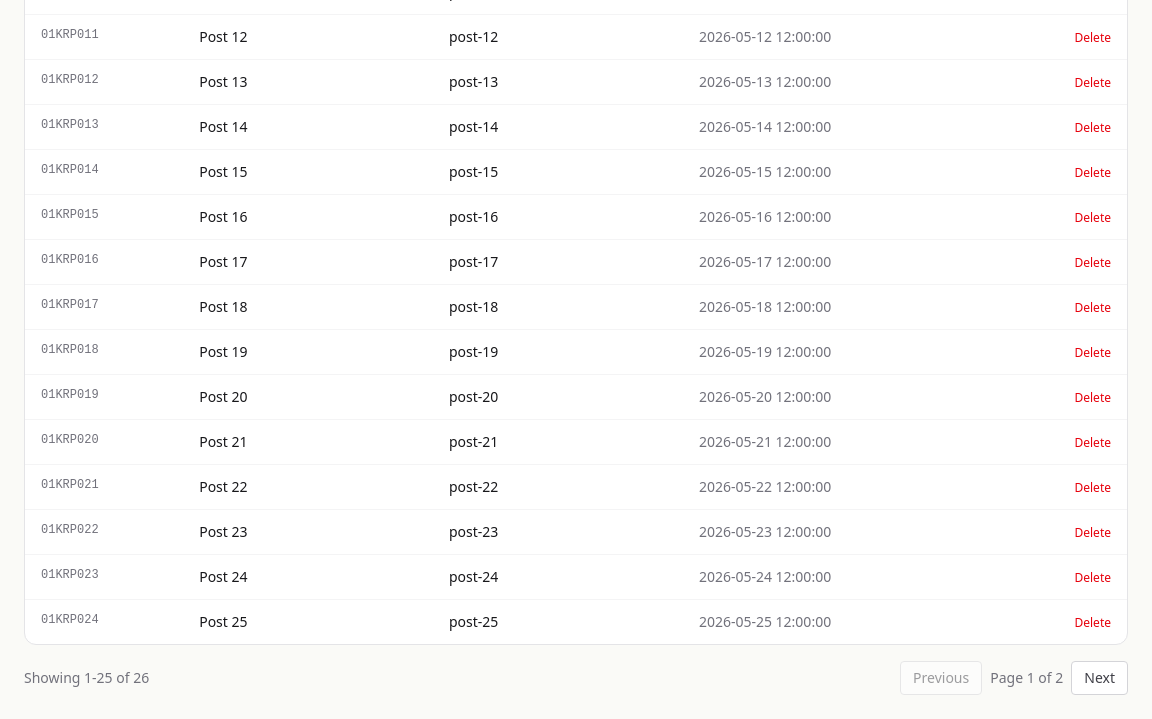
CollectionList › renders paginated results and advances pages
(page scrolled)
Expected: the text with test id "collection-pagination-summary" reads "Showing 1-25 of 26", [24, 668, 149, 687]
Expected: the text with test id "collection-page-indicator" reads "Page 1 of 2", [990, 668, 1063, 687]
Click the button with test id "collection-page-next".
click(1100, 678)  # box [1071, 661, 1128, 695]
(page scrolled)
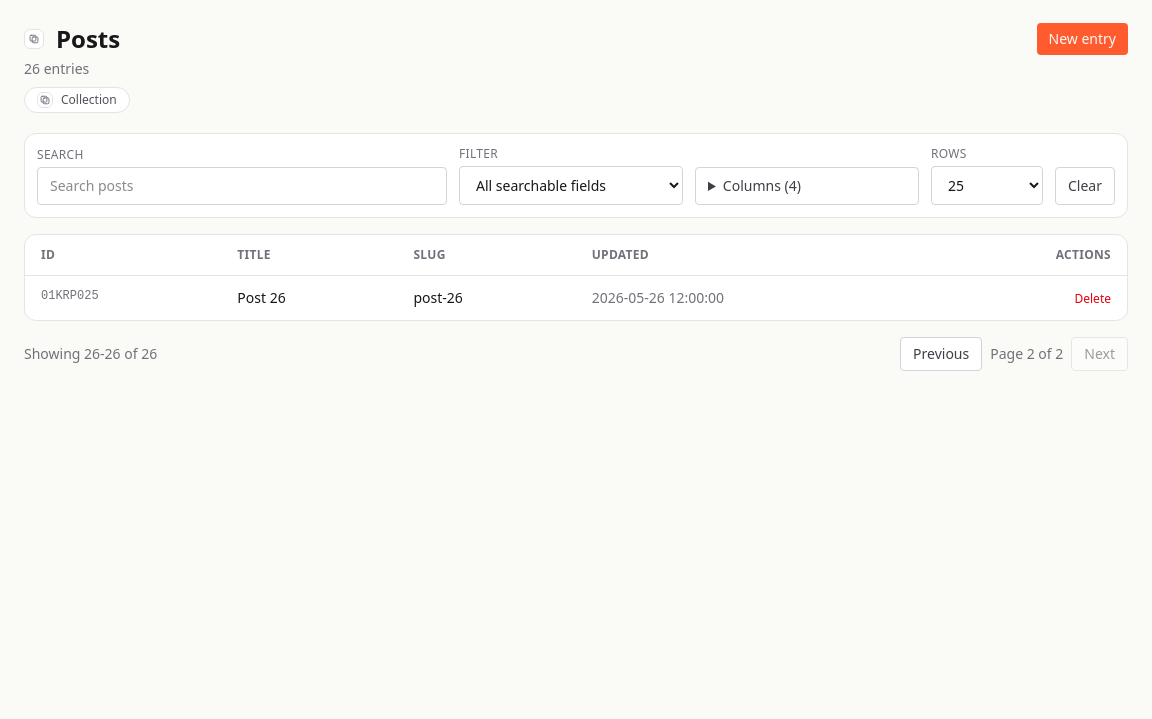
Result: the text with test id "collection-pagination-summary" reads "Showing 26-26 of 26" at [24, 344, 157, 363]
